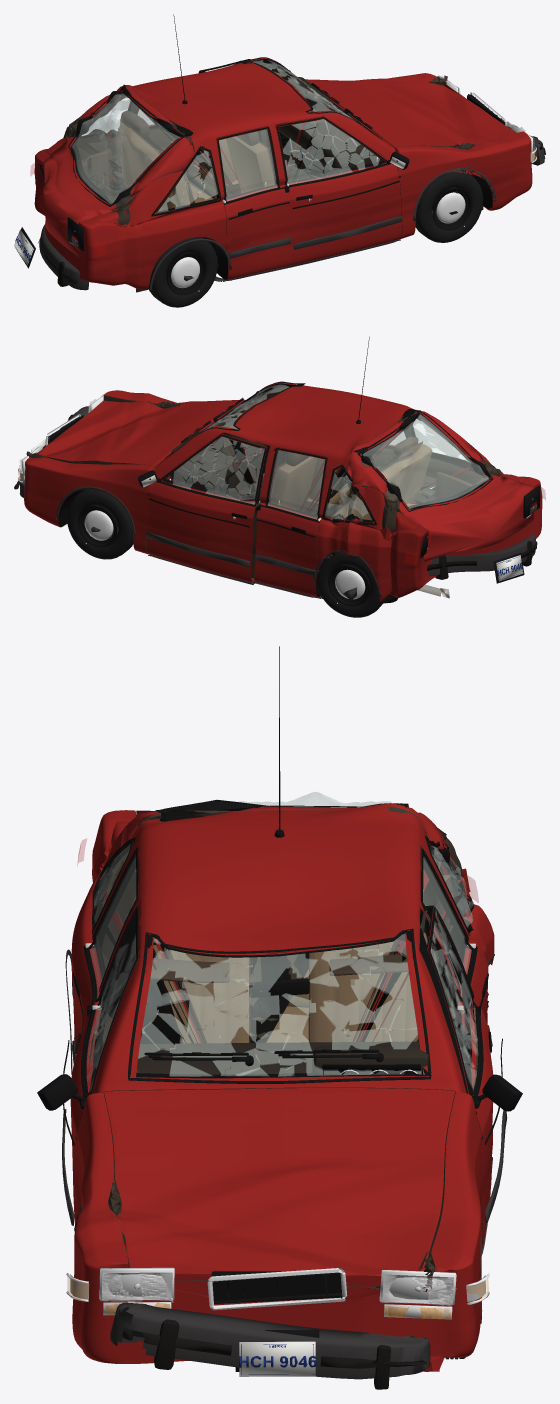
The model's file is hatchback85_rear_corner_d1_lod1.glb.
3 renders of one model, top to bottom at view 1: azimuth 30°, elevation 25°; view 2: azimuth 150°, elevation 25°; view 3: azimuth 270°, elevation 25°, orthographic. The views are drawn at different scales.
Visible parts, largest first — view 1: Body, Interior, Hood, Door_FR, Glass_Hatch, Hatch, Door_RR, Wheel_FR_mesh, Wheel_RR_mesh, Glass_FR, Glass, Glass_RR (+6 smaller); view 2: Body, Interior, Hatch, Door_FL, Hood, Glass_Hatch, Door_RL, Glass_FL, Wheel_FL_mesh, Glass_RL, Wheel_RL_mesh, Glass (+6 smaller); view 3: Body, Hood, Glass, Interior, Ends, Bumper_F, Door_FL, Trim, Door_FR, Trim_FL, Glass_FL, Trim_FR (+10 smaller).
Boxes of the visible parts, left/top/right/bottom form: Body: left=34, top=58, right=532, bottom=289; Interior: left=81, top=77, right=376, bottom=211; Hood: left=308, top=80, right=516, bottom=148; Door_FR: left=275, top=116, right=402, bottom=265; Glass_Hatch: left=68, top=84, right=184, bottom=206; Hatch: left=43, top=85, right=195, bottom=256; Door_RR: left=216, top=126, right=291, bottom=279; Wheel_FR_mesh: left=415, top=172, right=483, bottom=242; Wheel_RR_mesh: left=148, top=237, right=217, bottom=307; Glass_FR: left=276, top=117, right=385, bottom=186; Glass: left=88, top=57, right=382, bottom=214; Glass_RR: left=216, top=129, right=279, bottom=201; Body: left=24, top=382, right=542, bottom=603; Interior: left=170, top=408, right=472, bottom=520; Hatch: left=347, top=410, right=534, bottom=561; Door_FL: left=146, top=432, right=269, bottom=583; Hood: left=36, top=400, right=241, bottom=466; Glass_Hatch: left=353, top=410, right=493, bottom=511; Door_RL: left=254, top=447, right=327, bottom=597; Glass_FL: left=163, top=433, right=267, bottom=505; Wheel_FL_mesh: left=67, top=489, right=133, bottom=559; Glass_RL: left=265, top=450, right=327, bottom=519; Wheel_RL_mesh: left=317, top=552, right=382, bottom=617; Glass: left=165, top=381, right=470, bottom=524; Body: left=71, top=803, right=494, bottom=1371; Hood: left=103, top=1088, right=455, bottom=1286; Glass: left=94, top=838, right=474, bottom=1083; Interior: left=130, top=895, right=434, bottom=1074; Ends: left=66, top=1267, right=489, bottom=1376; Bumper_F: left=110, top=1302, right=430, bottom=1389; Door_FL: left=419, top=905, right=493, bottom=1249; Trim: left=65, top=646, right=494, bottom=1323; Door_FR: left=70, top=905, right=139, bottom=1224; Trim_FL: left=428, top=907, right=522, bottom=1255; Glass_FL: left=426, top=906, right=477, bottom=1088; Trim_FR: left=37, top=906, right=138, bottom=1225.
Size of the model in its own units: 4.4 by 2.14 by 1.93.
33 materials, 5 textured.
